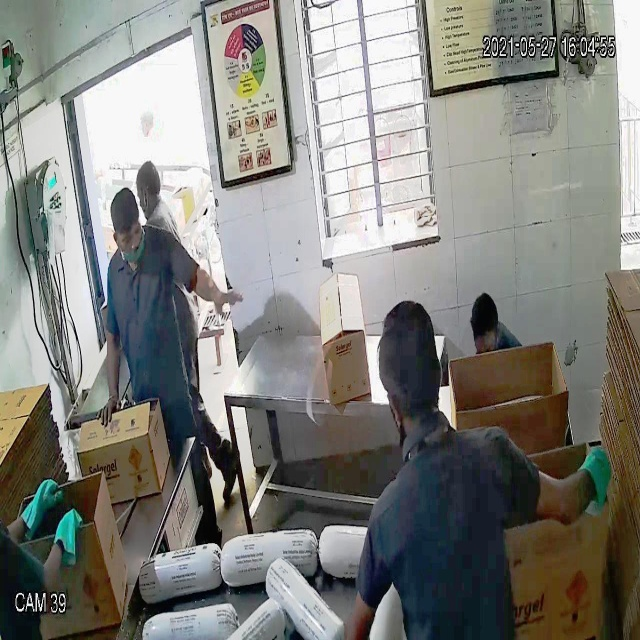Sin_gafas: (113, 221, 144, 255)
